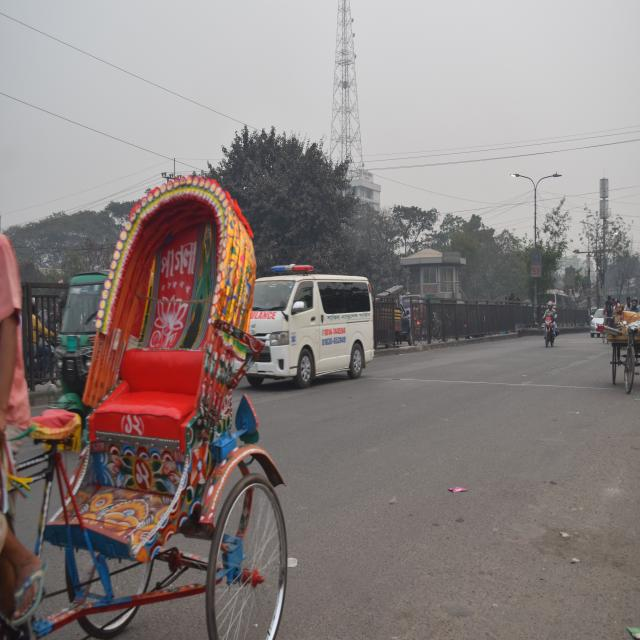car: (589, 305, 605, 339)
microbus: (249, 262, 369, 391)
motorbike: (540, 308, 559, 355)
